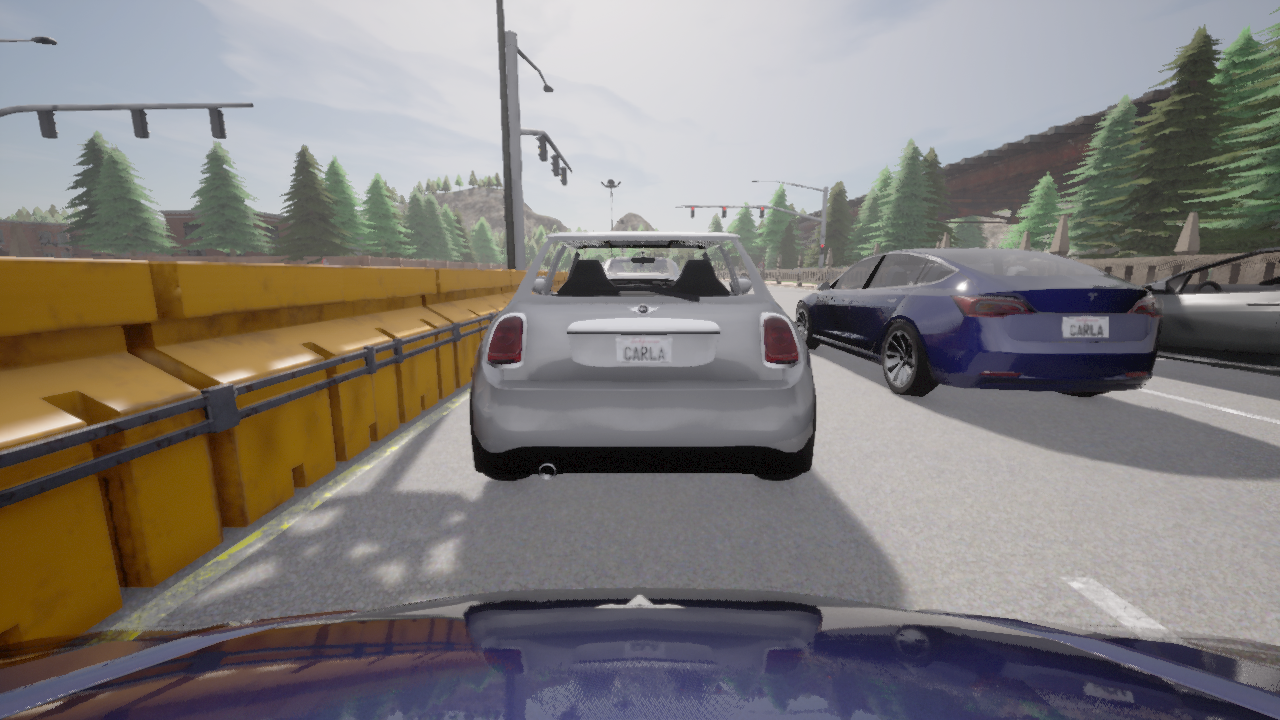cyclist: (0, 588, 1279, 719), (469, 231, 816, 480), (795, 248, 1163, 396), (1138, 247, 1279, 375)
pedestrian: (845, 263, 849, 267), (833, 264, 835, 267)
